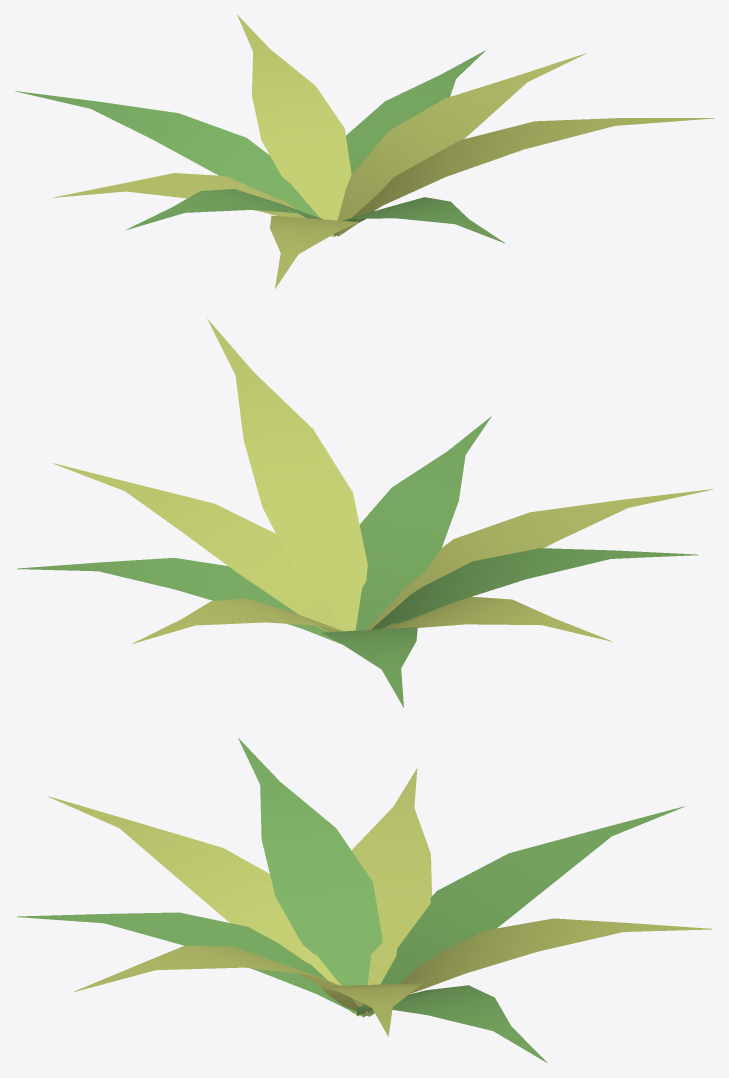
Rendered from fern.fbx.
3 views of the same model, one above another, from view 1: azimuth 30°, elevation 25°; view 2: azimuth 150°, elevation 25°; view 3: azimuth 270°, elevation 25° (orthographic). The views are drawn at different scales.
Parts seen in each view (by area): view 1: fern_LOD0; view 2: fern_LOD0; view 3: fern_LOD0.
Part boxes in pixels (x1=…): fern_LOD0: x1=15, y1=14, x2=714, y2=288; fern_LOD0: x1=16, y1=319, x2=713, y2=707; fern_LOD0: x1=16, y1=738, x2=712, y2=1062.
Size of the model in its own units: 2.28 by 0.5957 by 2.23.
